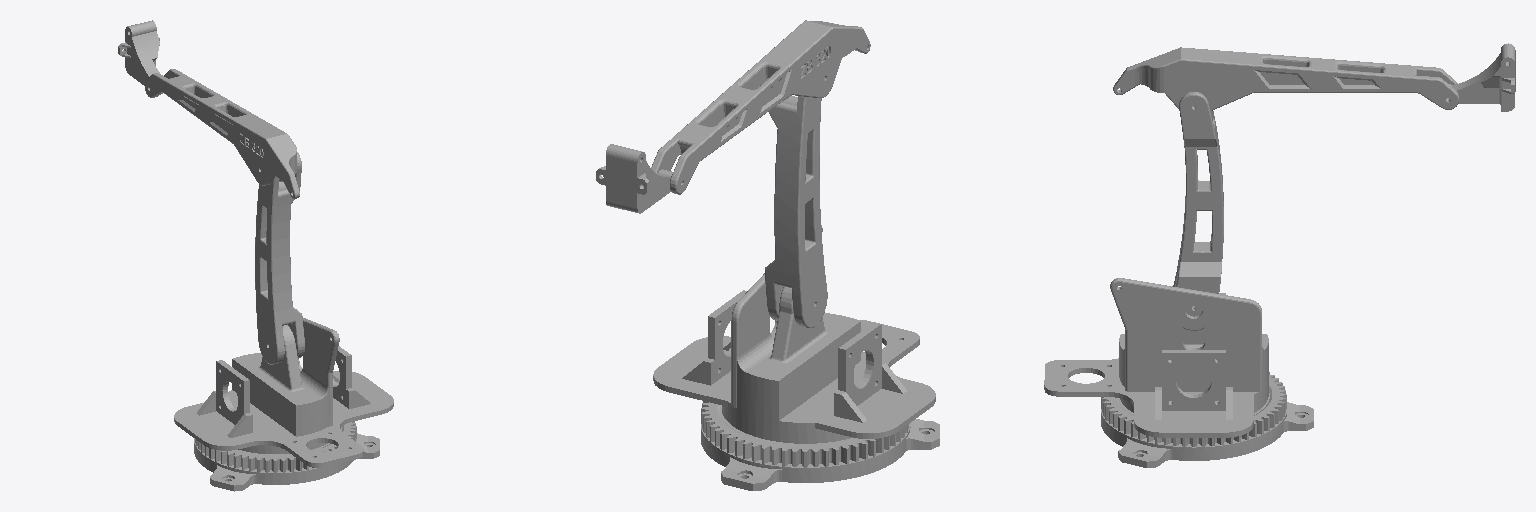
robot.urdf — zb320:
<?xml version="1.0" encoding="utf-8"?>
<!-- =================================================================================== -->
<!-- |    This document was autogenerated by xacro from model.xacro                    | -->
<!-- |    EDITING THIS FILE BY HAND IS NOT RECOMMENDED                                 | -->
<!-- =================================================================================== -->
<robot name="zb320">
    <material name="silver">
        <color rgba="0.700 0.700 0.700 1.000"/>
    </material>
    <material name="red">
        <color rgba="1.000 0.000 0.000 0.700"/>
    </material>
    <material name="green">
        <color rgba="0.000 1.000 0.000 0.700"/>
    </material>
    <material name="blue">
        <color rgba="0.000 0.000 1.000 0.700"/>
    </material>
    <material name="white">
        <color rgba="1.000 1.000 1.000 0.700"/>
    </material>

    <transmission name="Rev5_tran">
        <type>transmission_interface/SimpleTransmission</type>
        <joint name="Rev5">
            <hardwareInterface>hardware_interface/EffortJointInterface</hardwareInterface>
        </joint>
        <actuator name="Rev5_actr">
            <hardwareInterface>hardware_interface/EffortJointInterface</hardwareInterface>
            <mechanicalReduction>1</mechanicalReduction>
        </actuator>
    </transmission>

    <transmission name="Rev6_tran">
        <type>transmission_interface/SimpleTransmission</type>
        <joint name="Rev6">
            <hardwareInterface>hardware_interface/EffortJointInterface</hardwareInterface>
        </joint>
        <actuator name="Rev6_actr">
            <hardwareInterface>hardware_interface/EffortJointInterface</hardwareInterface>
            <mechanicalReduction>1</mechanicalReduction>
        </actuator>
    </transmission>

    <transmission name="Rev7_tran">
        <type>transmission_interface/SimpleTransmission</type>
        <joint name="Rev7">
            <hardwareInterface>hardware_interface/EffortJointInterface</hardwareInterface>
        </joint>
        <actuator name="Rev7_actr">
            <hardwareInterface>hardware_interface/EffortJointInterface</hardwareInterface>
            <mechanicalReduction>1</mechanicalReduction>
        </actuator>
    </transmission>

    <transmission name="Rev8_tran">
        <type>transmission_interface/SimpleTransmission</type>
        <joint name="Rev8">
            <hardwareInterface>hardware_interface/EffortJointInterface</hardwareInterface>
        </joint>
        <actuator name="Rev8_actr">
            <hardwareInterface>hardware_interface/EffortJointInterface</hardwareInterface>
            <mechanicalReduction>1</mechanicalReduction>
        </actuator>
    </transmission>

    <gazebo>
        <plugin filename="libgazebo_ros_control.so" name="control"/>
    </gazebo>

    <gazebo reference="base_link">
        <material>Gazebo/Silver</material>
        <mu1>0.2</mu1>
        <mu2>0.2</mu2>
        <selfCollide>true</selfCollide>
        <gravity>true</gravity>
    </gazebo>

    <gazebo reference="link_1_1">
        <material>Gazebo/Silver</material>
        <mu1>0.2</mu1>
        <mu2>0.2</mu2>
        <selfCollide>true</selfCollide>
    </gazebo>

    <gazebo reference="link_2_1">
        <material>Gazebo/Silver</material>
        <mu1>0.2</mu1>
        <mu2>0.2</mu2>
        <selfCollide>true</selfCollide>
    </gazebo>

    <gazebo reference="link_3_1">
        <material>Gazebo/Silver</material>
        <mu1>0.2</mu1>
        <mu2>0.2</mu2>
        <selfCollide>true</selfCollide>
    </gazebo>

    <gazebo reference="link_4_1">
        <material>Gazebo/Silver</material>
        <mu1>0.2</mu1>
        <mu2>0.2</mu2>
        <selfCollide>true</selfCollide>
    </gazebo>

    <link name="base_link">
        <inertial>
            <origin rpy="0 0 0" xyz="0.0 0.0 0.0"/>
            <mass value="1.4110802987401645"/>
            <inertia ixx="0.001793" ixy="0.0" ixz="0.0" iyy="0.001793" iyz="-0.0" izz="0.003498"/>
        </inertial>
        <visual>
            <origin rpy="0 0 3.14" xyz="0 0 0"/>
            <geometry>
                <mesh filename="package://zb320_description/meshes/base_link.stl" scale="0.001 0.001 0.001"/>
            </geometry>
            <material name="silver"/>
        </visual>
        <collision>
            <origin rpy="0 0 0" xyz="0 0 0"/>
            <geometry>
                <mesh filename="package://zb320_description/meshes/base_link.stl" scale="0.001 0.001 0.001"/>
            </geometry>
        </collision>
    </link>

    <link name="link_1_1">
        <inertial>
            <origin rpy="0 0 0" xyz="0.0 0.0 -0.02"/>
            <mass value="2.152080592427195"/>
            <inertia ixx="0.002479" ixy="-1.4e-05" ixz="0.000171" iyy="0.002425" iyz="-4e-06" izz="0.00328"/>
        </inertial>
        <visual>
            <origin rpy="0 0 3.14" xyz="-0.0 -0.0 -0.02"/>
            <geometry>
                <mesh filename="package://zb320_description/meshes/link_1_1.stl" scale="0.001 0.001 0.001"/>
            </geometry>
            <material name="silver"/>
        </visual>
        <collision>
            <origin rpy="0 0 0" xyz="-0.0 -0.0 -0.02"/>
            <geometry>
                <mesh filename="package://zb320_description/meshes/link_1_1.stl" scale="0.001 0.001 0.001"/>
            </geometry>
        </collision>
    </link>

    <link name="link_2_1">
        <inertial>
            <origin rpy="0 0 0" xyz="0.0 0.0 -0.09"/>
            <mass value="0.48368669197035047"/>
            <inertia ixx="0.001168" ixy="1e-06" ixz="-7e-06" iyy="0.001158" iyz="1.1e-05" izz="5.8e-05"/>
        </inertial>
        <visual>
            <origin rpy="0 0 3.14" xyz="-0.0 -0.0 -0.09"/>
            <geometry>
                <mesh filename="package://zb320_description/meshes/link_2_1.stl" scale="0.001 0.001 0.001"/>
            </geometry>
            <material name="silver"/>
        </visual>
        <collision>
            <origin rpy="0 0 0" xyz="-0.0 -0.0 -0.09"/>
            <geometry>
                <mesh filename="package://zb320_description/meshes/link_2_1.stl" scale="0.001 0.001 0.001"/>
            </geometry>
        </collision>
    </link>

    <link name="link_3_1">
        <inertial>
            <origin rpy="0 0 0" xyz="0.0 0.0 -0.24"/>
            <mass value="0.5032706604395567"/>
            <inertia ixx="0.001721" ixy="-1.1e-05" ixz="1e-06" iyy="5.3e-05" iyz="-3.7e-05" izz="0.001709"/>
        </inertial>
        <visual>
            <origin rpy="0 0 3.14" xyz="0.0 0.0 -0.24"/>
            <geometry>
                <mesh filename="package://zb320_description/meshes/link_3_1.stl" scale="0.001 0.001 0.001"/>
            </geometry>
            <material name="silver"/>
        </visual>
        <collision>
            <origin rpy="0 0 0" xyz="0.0 0.0 -0.24"/>
            <geometry>
                <mesh filename="package://zb320_description/meshes/link_3_1.stl" scale="0.001 0.001 0.001"/>
            </geometry>
        </collision>
    </link>

    <link name="link_4_1">
        <inertial>
            <origin rpy="0 0 0" xyz="0.0 -0.17 -0.24"/>
            <mass value="0.12489833913220899"/>
            <inertia ixx="3.1e-05" ixy="-3e-06" ixz="2e-06" iyy="1.8e-05" iyz="7e-06" izz="2.3e-05"/>
        </inertial>
        <visual>
            <origin rpy="0 0 3.14" xyz="-0.0 -0.17 -0.24"/>
            <geometry>
                <mesh filename="package://zb320_description/meshes/link_4_1.stl" scale="0.001 0.001 0.001"/>
            </geometry>
            <material name="silver"/>
        </visual>
        <collision>
            <origin rpy="0 0 0" xyz="-0.0 -0.17 -0.24"/>
            <geometry>
                <mesh filename="package://zb320_description/meshes/link_4_1.stl" scale="0.001 0.001 0.001"/>
            </geometry>
        </collision>
    </link>

    <joint name="Rev5" type="continuous">
        <origin rpy="0 0 0" xyz="0.0 0.0 0.02"/>
        <parent link="base_link"/>
        <child link="link_1_1"/>
        <axis xyz="0.0 0.0 1.0"/>
    </joint>

    <joint name="Rev6" type="continuous">
        <origin rpy="0 0 0" xyz="0.0 0.0 0.07"/>
        <parent link="link_1_1"/>
        <child link="link_2_1"/>
        <axis xyz="1.0 0.0 0.0"/>
    </joint>
    
    <joint name="Rev7" type="continuous">
        <origin rpy="0 0 0" xyz="0.0 0.0 0.15"/>
        <parent link="link_2_1"/>
        <child link="link_3_1"/>
        <axis xyz="1.0 0.0 0.0"/>
    </joint>
    
    <joint name="Rev8" type="continuous">
        <origin rpy="0 0 0" xyz="0.0 0.17 0.0"/>
        <parent link="link_3_1"/>
        <child link="link_4_1"/>
        <axis xyz="1.0 0.0 0.0"/>
    </joint>
</robot>

--- Render facts (derived) ---
Views: 3 orthographic renders of the robot side by side, from view 1: azimuth 30°, elevation 25°; view 2: azimuth 150°, elevation 25°; view 3: azimuth 270°, elevation 25°.
Robot: zb320 — 5 links, 4 joints (4 continuous); root link base_link; default pose: all joints at 0.
Visible links, largest first — view 1: link_1_1, link_2_1, link_3_1, base_link, link_4_1; view 2: link_1_1, link_3_1, link_2_1, base_link, link_4_1; view 3: link_1_1, link_3_1, link_2_1, base_link, link_4_1.
Link boxes in pixels (x1=…): link_1_1: x1=174, y1=318, x2=393, y2=467; link_2_1: x1=255, y1=152, x2=304, y2=364; link_3_1: x1=145, y1=69, x2=299, y2=198; base_link: x1=194, y1=421, x2=379, y2=491; link_4_1: x1=118, y1=20, x2=159, y2=85; link_1_1: x1=653, y1=225, x2=935, y2=443; link_3_1: x1=651, y1=20, x2=870, y2=194; link_2_1: x1=765, y1=95, x2=827, y2=327; base_link: x1=701, y1=401, x2=939, y2=490; link_4_1: x1=596, y1=144, x2=672, y2=213; link_1_1: x1=1044, y1=278, x2=1268, y2=437; link_3_1: x1=1113, y1=47, x2=1458, y2=110; link_2_1: x1=1173, y1=92, x2=1223, y2=330; base_link: x1=1101, y1=372, x2=1313, y2=467; link_4_1: x1=1447, y1=43, x2=1515, y2=111.
Size in the robot's own frame: 0.1651 by 0.315 by 0.275 metres.
5 mesh visuals loaded from 5 distinct referenced files (5 binary STL).